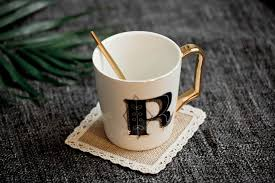cup: (84, 22, 206, 154)
